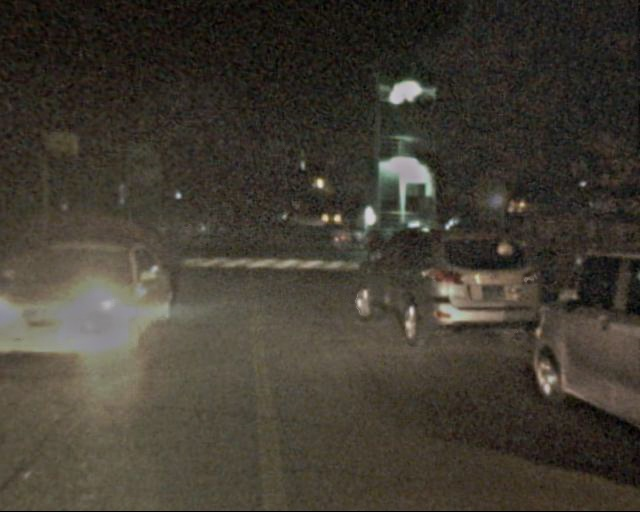person: (363, 226, 385, 280), (122, 218, 143, 269)
